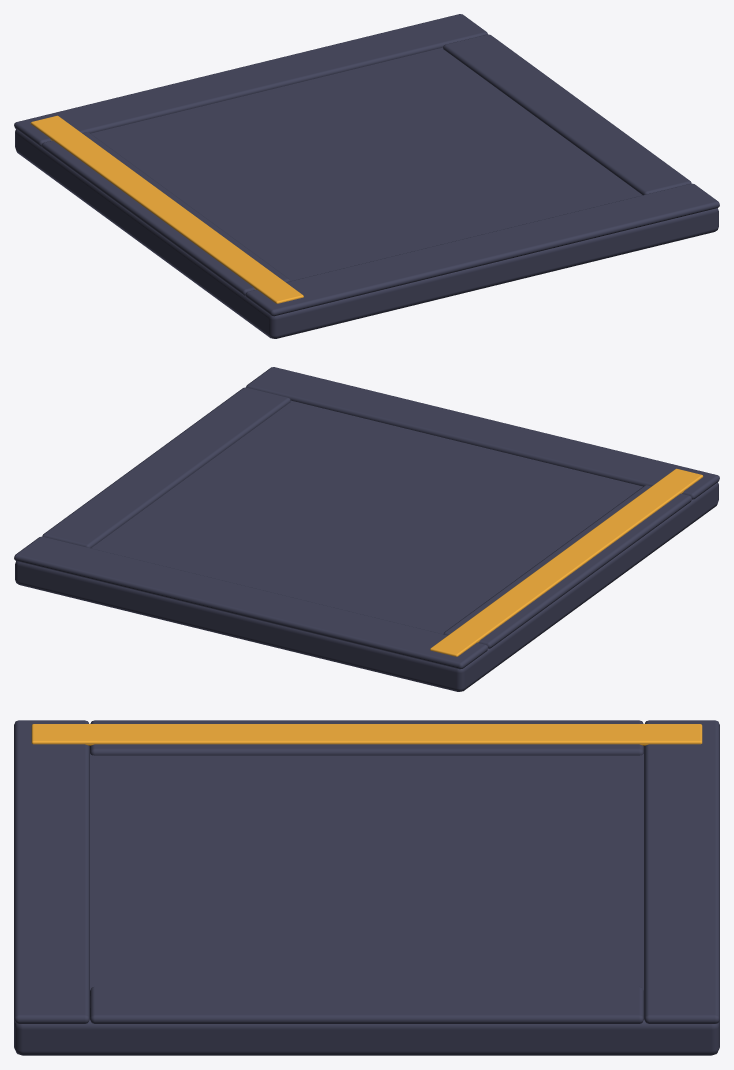
File: floor.framed+hzx.glb
3 renders of one model, top to bottom at view 1: azimuth 30°, elevation 25°; view 2: azimuth 150°, elevation 25°; view 3: azimuth 270°, elevation 25°, orthographic. The views are drawn at different scales.
Visible parts, largest first — view 1: floor.framed+hzx; view 2: floor.framed+hzx; view 3: floor.framed+hzx.
Boxes of the visible parts, x1,y1,x2,y2 form: floor.framed+hzx: [14, 14, 719, 338]; floor.framed+hzx: [14, 367, 719, 691]; floor.framed+hzx: [14, 720, 719, 1055].
Bounding box in the file's own units: 0.968 × 0.068 × 0.968.
